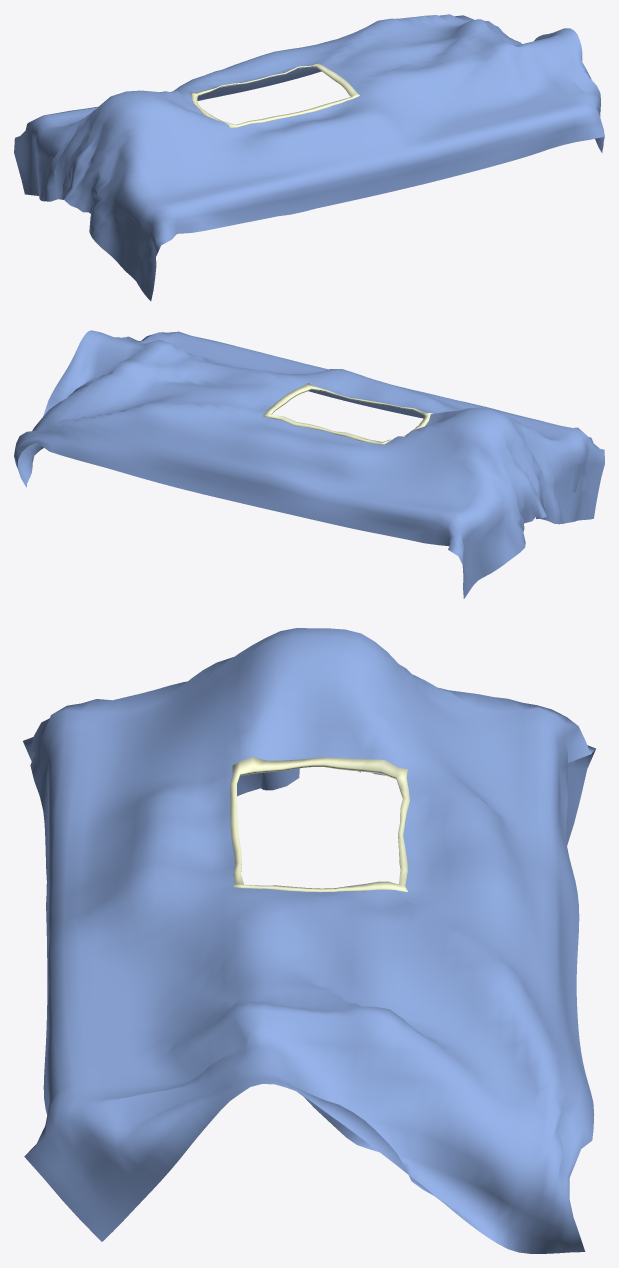
The model's file is telaSola.fbx.
The picture shows the model from 3 angles, top to bottom: view 1: azimuth 30°, elevation 25°; view 2: azimuth 150°, elevation 25°; view 3: azimuth 270°, elevation 25°; orthographic projection. The views are drawn at different scales.
Visible parts, largest first — view 1: Tela; view 2: Tela; view 3: Tela.
Boxes of the visible parts, x1,y1,x2,y2 form: Tela: [14, 14, 604, 300]; Tela: [14, 330, 604, 598]; Tela: [23, 628, 595, 1253].
Bounding box in the file's own units: 218 × 60.17 × 113.
